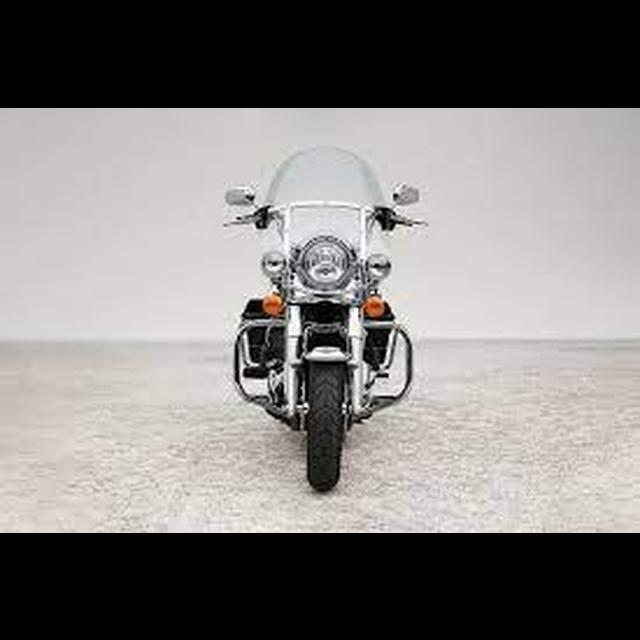motorcycle: (221, 143, 431, 499)
